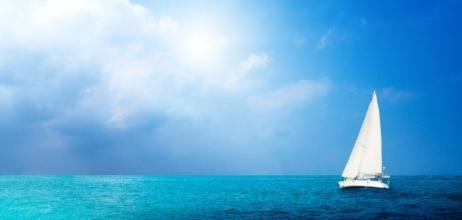fanchuan: (335, 90, 391, 194)
